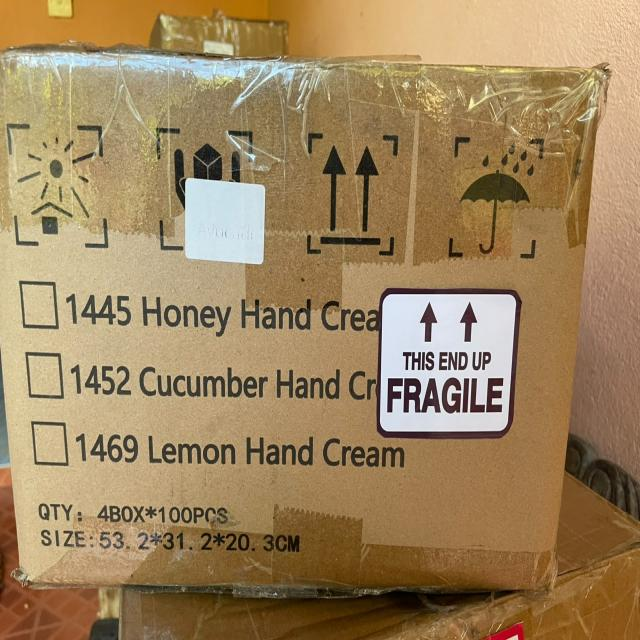carton_box: (1, 35, 617, 606)
fragile_label: (382, 367, 514, 439)
handle_with_care_label: (152, 123, 270, 259)
keep_dry_label: (447, 130, 552, 268)
protect_from_heat_label: (1, 113, 126, 254)
this_side_up_label: (375, 283, 522, 376), (307, 134, 400, 266)
